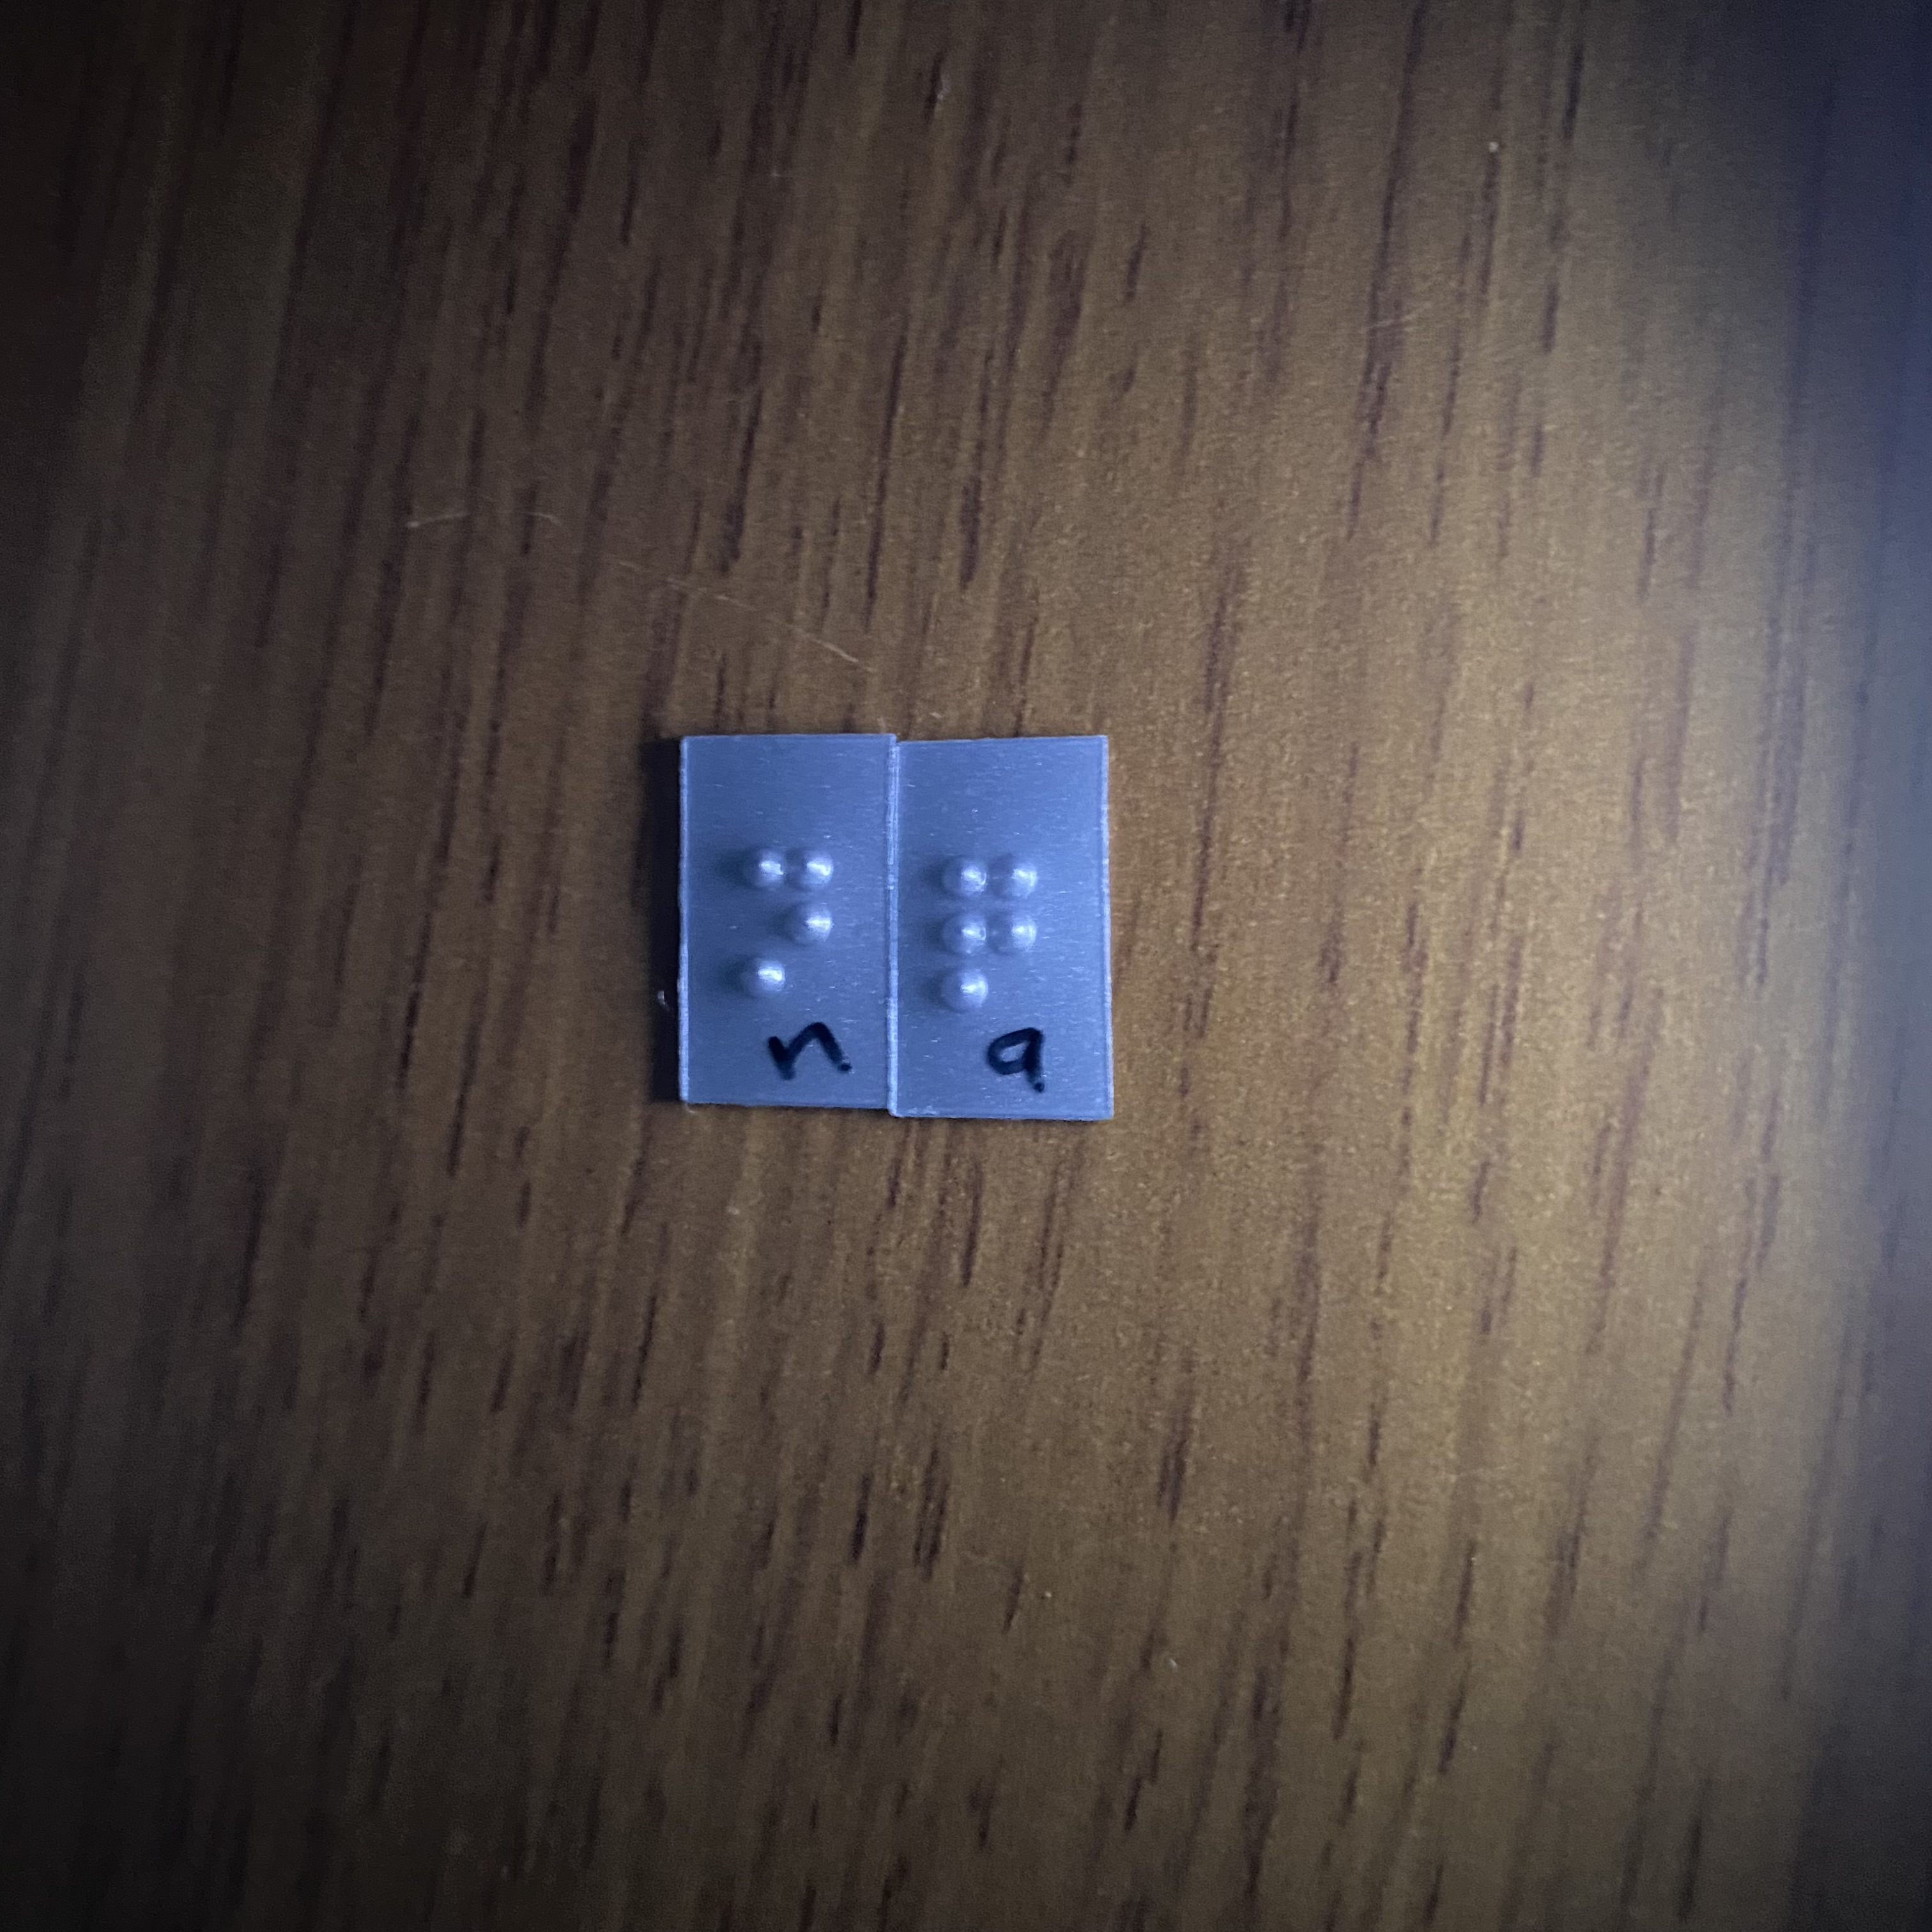n: (708, 828, 838, 1009)
q: (919, 841, 1058, 1020)
